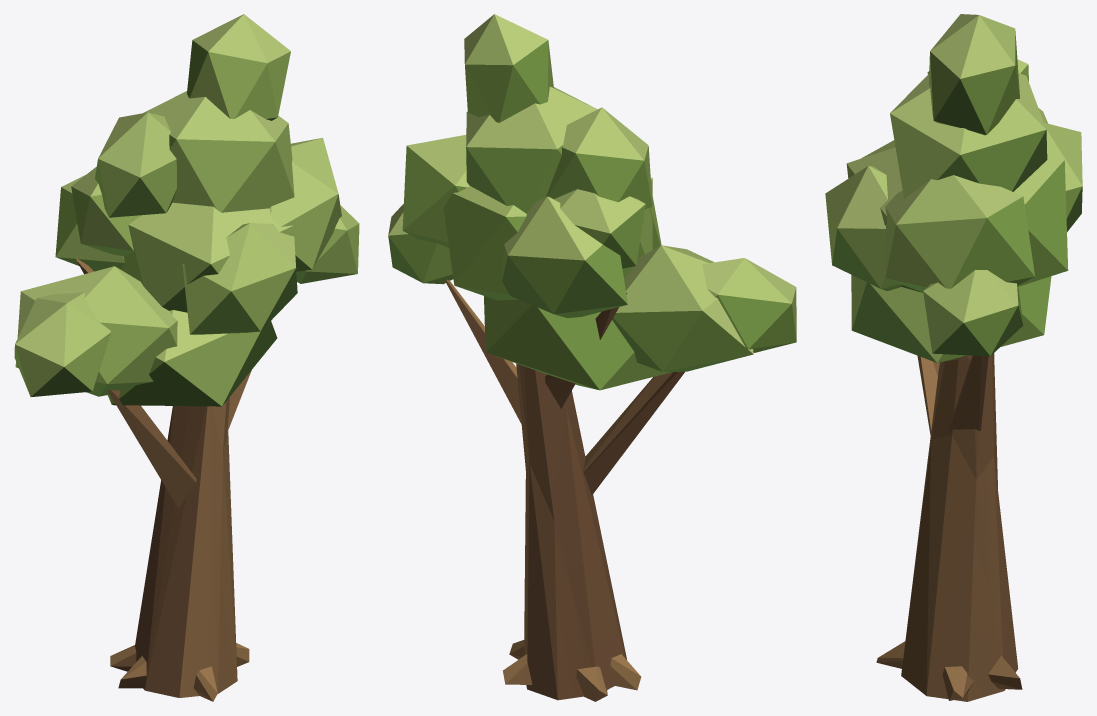
3 renders of one model, left to right at view 1: azimuth 30°, elevation 25°; view 2: azimuth 150°, elevation 25°; view 3: azimuth 270°, elevation 25°, orthographic. The views are drawn at different scales.
Parts seen in each view (by area): view 1: WK_RegularTree_SunlitLime_LOD1_Balanced; view 2: WK_RegularTree_SunlitLime_LOD1_Balanced; view 3: WK_RegularTree_SunlitLime_LOD1_Balanced.
Part boxes in pixels (x1=…): WK_RegularTree_SunlitLime_LOD1_Balanced: x1=14, y1=14, x2=359, y2=701; WK_RegularTree_SunlitLime_LOD1_Balanced: x1=388, y1=14, x2=796, y2=701; WK_RegularTree_SunlitLime_LOD1_Balanced: x1=825, y1=14, x2=1082, y2=701.
Size of the model in its own units: 4.21 by 7.05 by 2.34.
